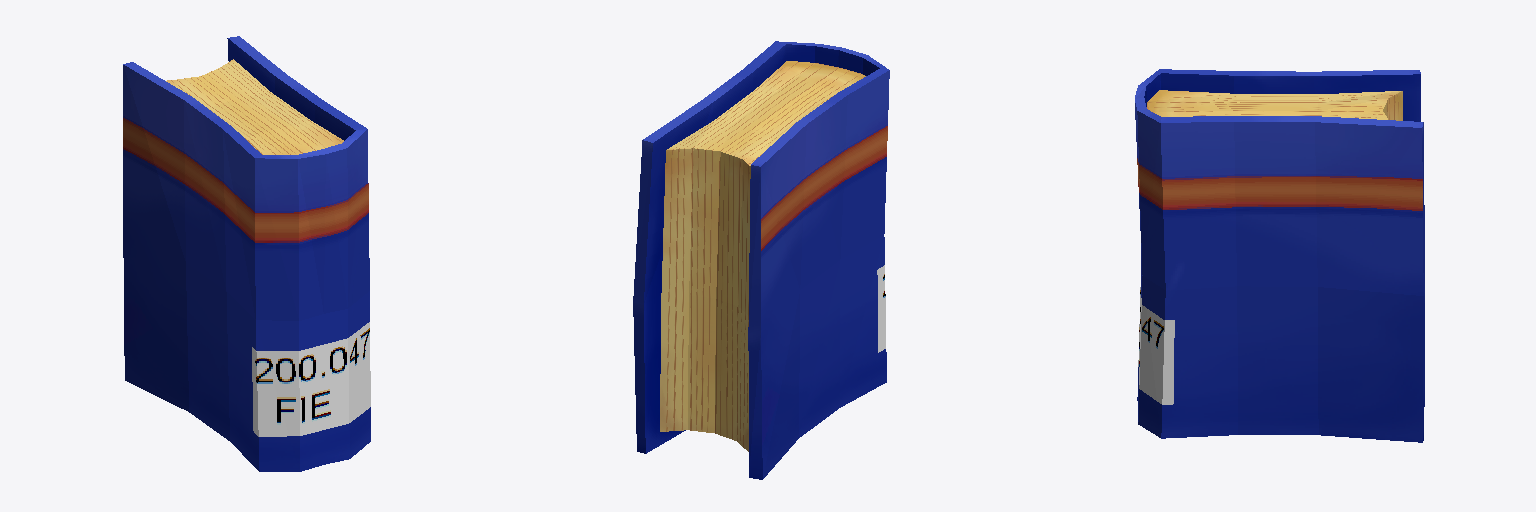
3 views of the same model, side by side, from view 1: azimuth 30°, elevation 25°; view 2: azimuth 150°, elevation 25°; view 3: azimuth 270°, elevation 25° (orthographic).
Parts seen in each view (by area): view 1: Cover.001, Pages.002; view 2: Cover.001, Pages.002; view 3: Cover.001, Pages.002.
Boxes of the visible parts, x1,y1,x2,y2 form: Cover.001: [123, 36, 370, 471]; Pages.002: [166, 59, 343, 154]; Cover.001: [633, 41, 889, 479]; Pages.002: [660, 61, 865, 451]; Cover.001: [1135, 69, 1424, 442]; Pages.002: [1147, 90, 1402, 120].
Size of the model in its own units: 2.93 by 7.05 by 5.85.
2 materials, 2 textured.